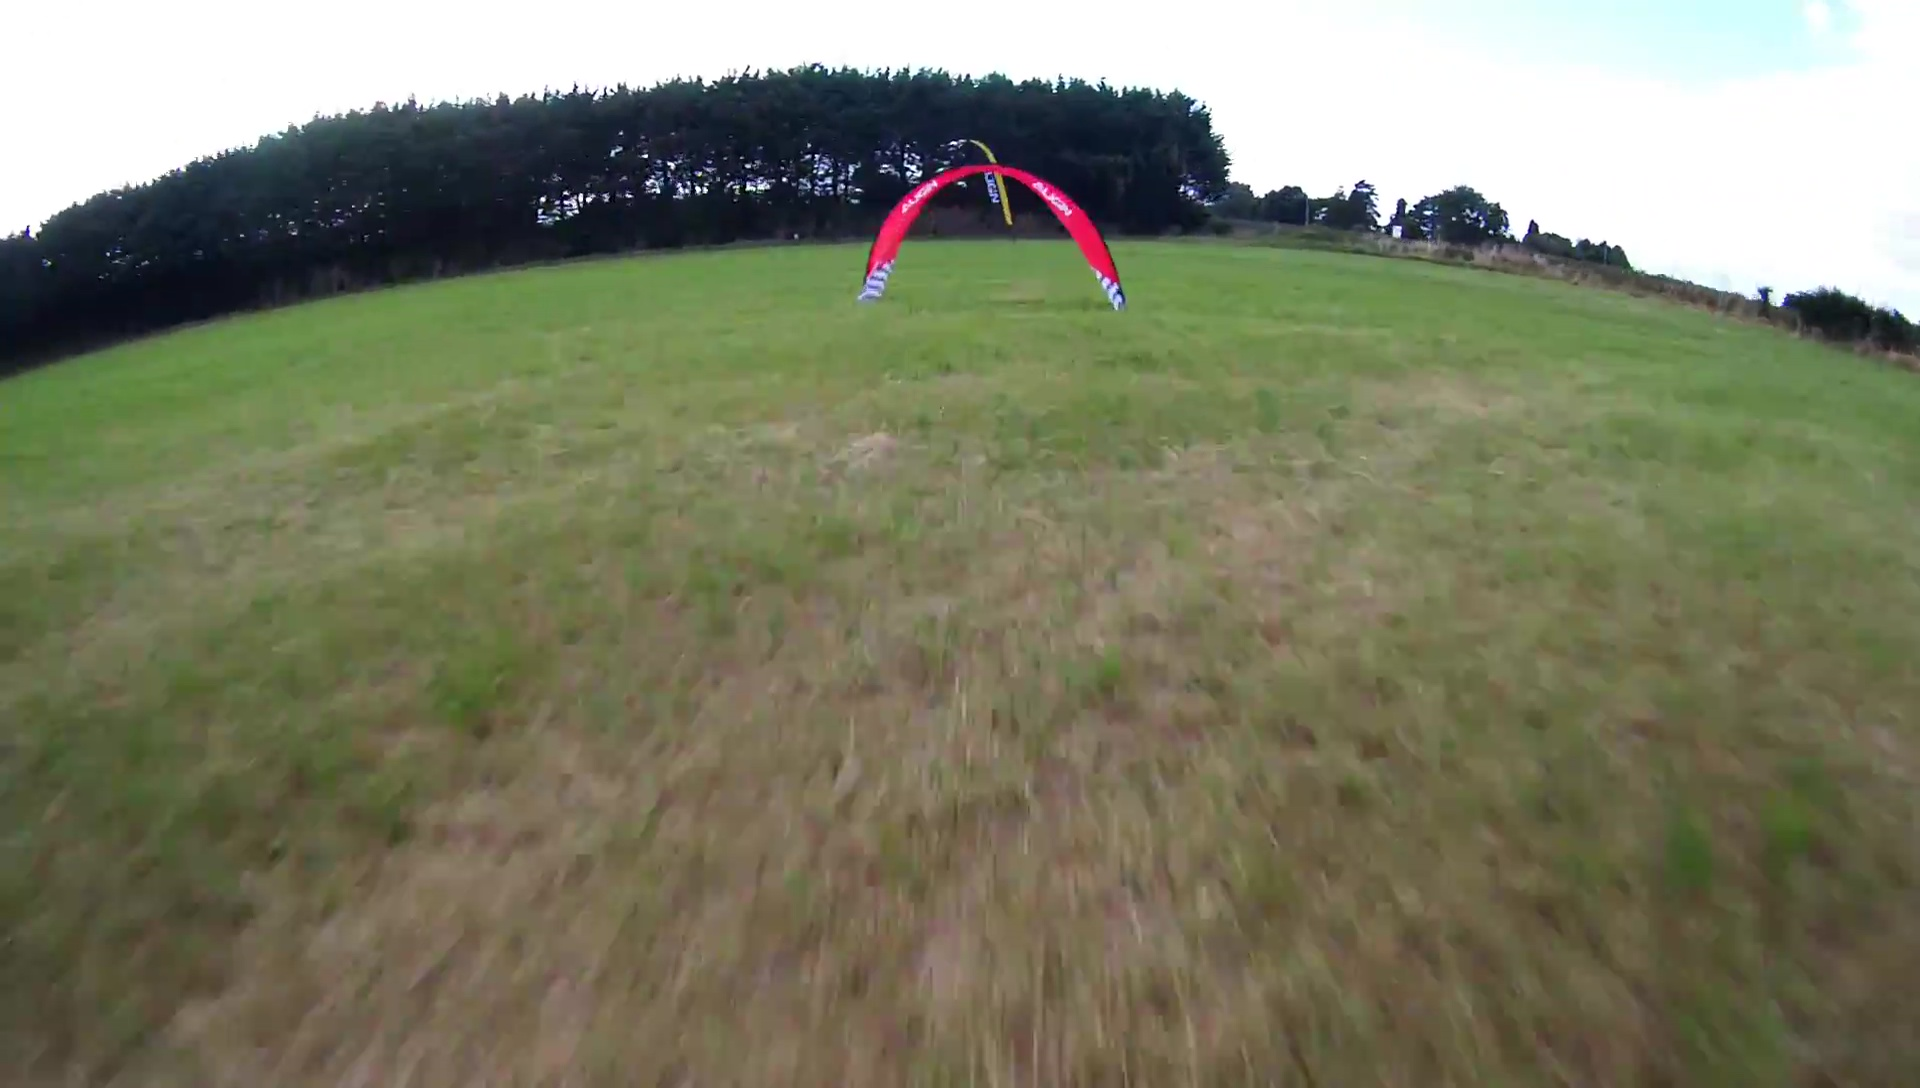gate: (858, 164, 1127, 313)
